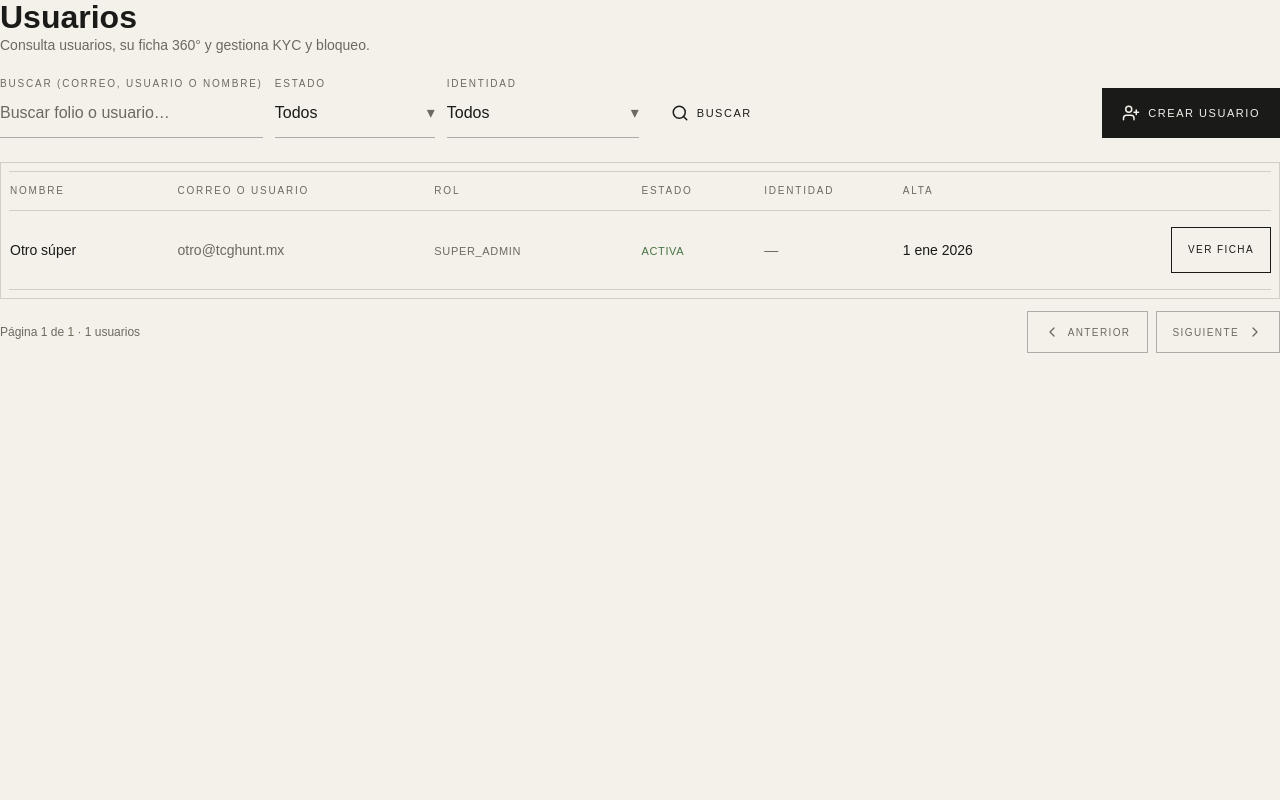
PS-164 · la cuenta del dueño en Usuarios › `403 OWNER_ACCOUNT_PROTECTED` (la marca cambió entre leer y pulsar) ⇒ su texto, ⛔ no el genérico
Click the button "Ver ficha" at (1221, 250), box [1171, 227, 1271, 273]
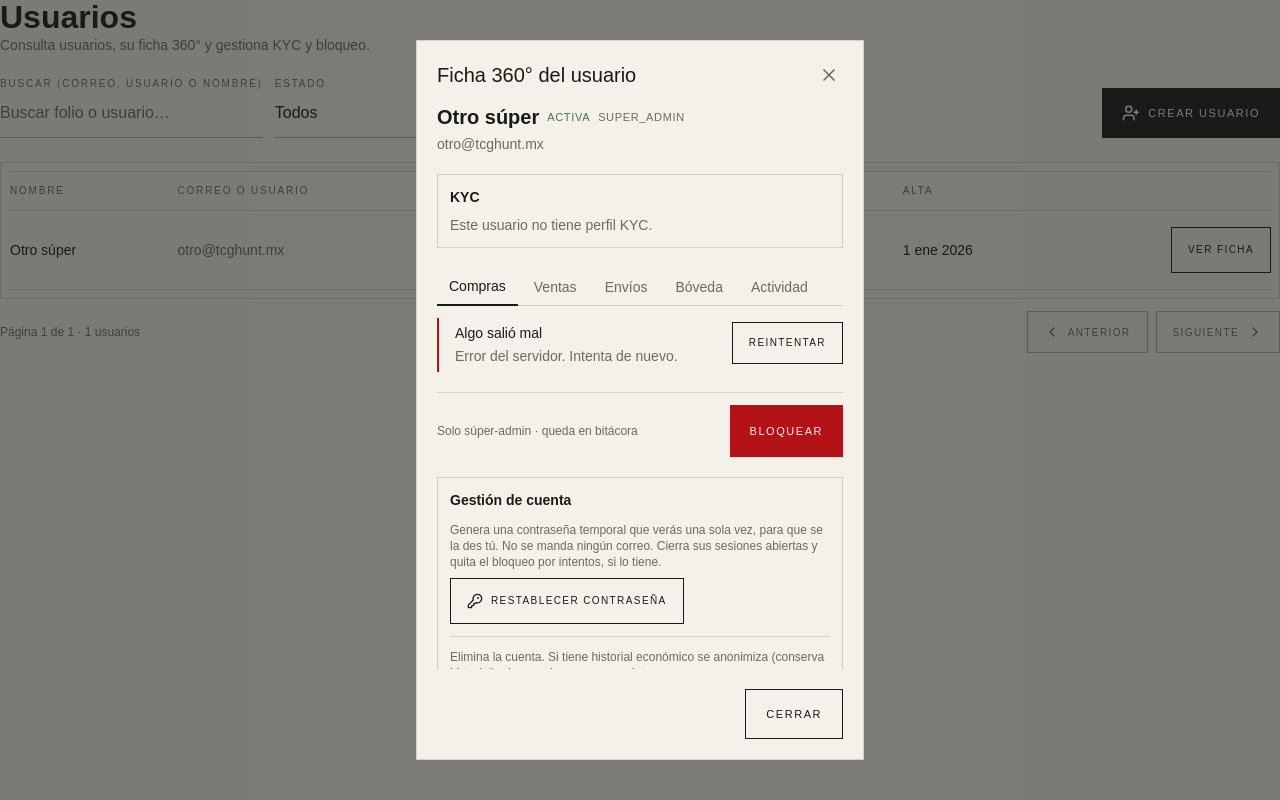
Click the button "Restablecer contraseña" at (567, 600), box [450, 578, 684, 624]
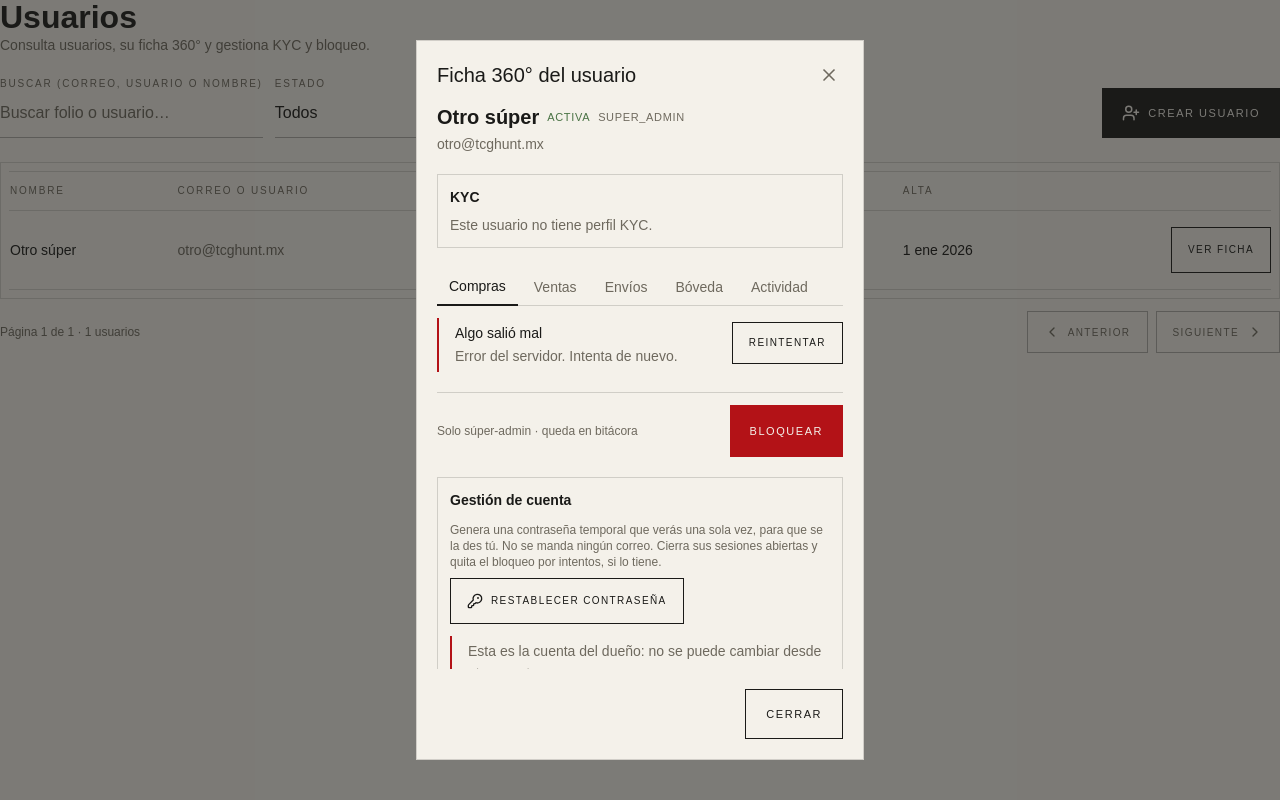
expect the text "Esta es la cuenta del dueño: no se puede cambiar desde otra cuenta." is shown: met, box [468, 640, 830, 668]
